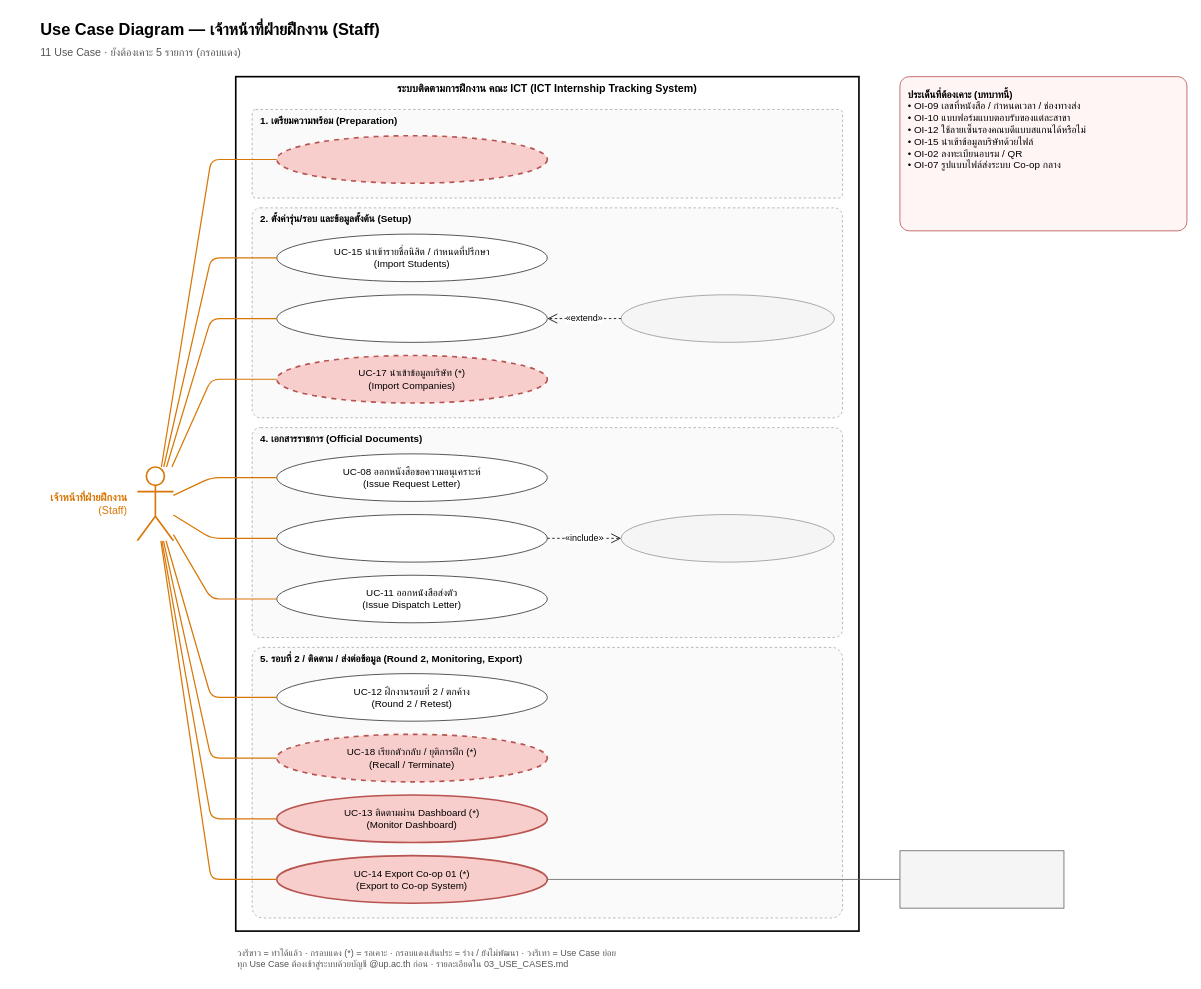
Some shapes in this 1201 by 989 pixel diagram are drawn without their labels. The shapes that lost their labels are listed below. From the top down, each one's centre as x and y in pixels, then its label:
point (412, 159): UC-16 ลงทะเบียนอบรม / สแกน QR (*) ⏸ (Training Check-in)
point (411, 318): UC-05 สร้างรุ่นและเปิด/ปิดรอบออกฝึก (Manage Cohorts & Windows)
point (727, 318): เปิดต่อพิเศษ (Extend Window)
point (411, 538): UC-10 ตรวจ / ยืนยันแบบตอบรับ (Verify Acceptance Form)
point (727, 538): วิเคราะห์แบบตอบรับอัตโนมัติ (OMR)
point (981, 879): «system» ระบบ Co-op กลาง (University Co-op System)
